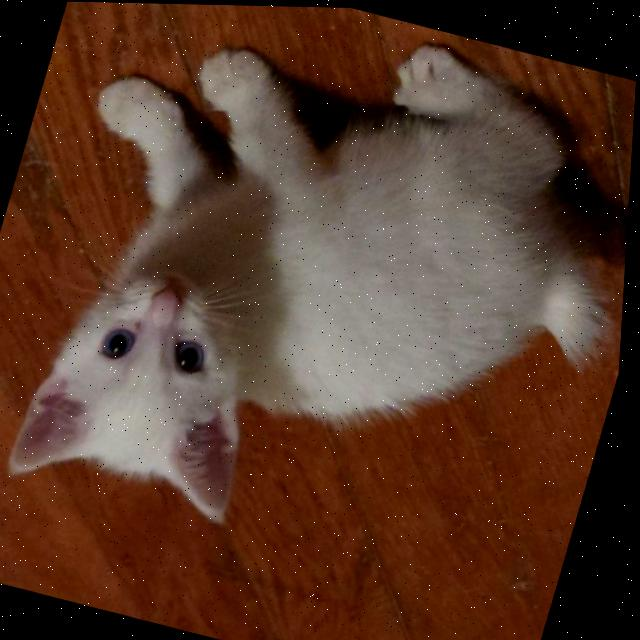American Bobtail: (0, 0, 640, 616)
